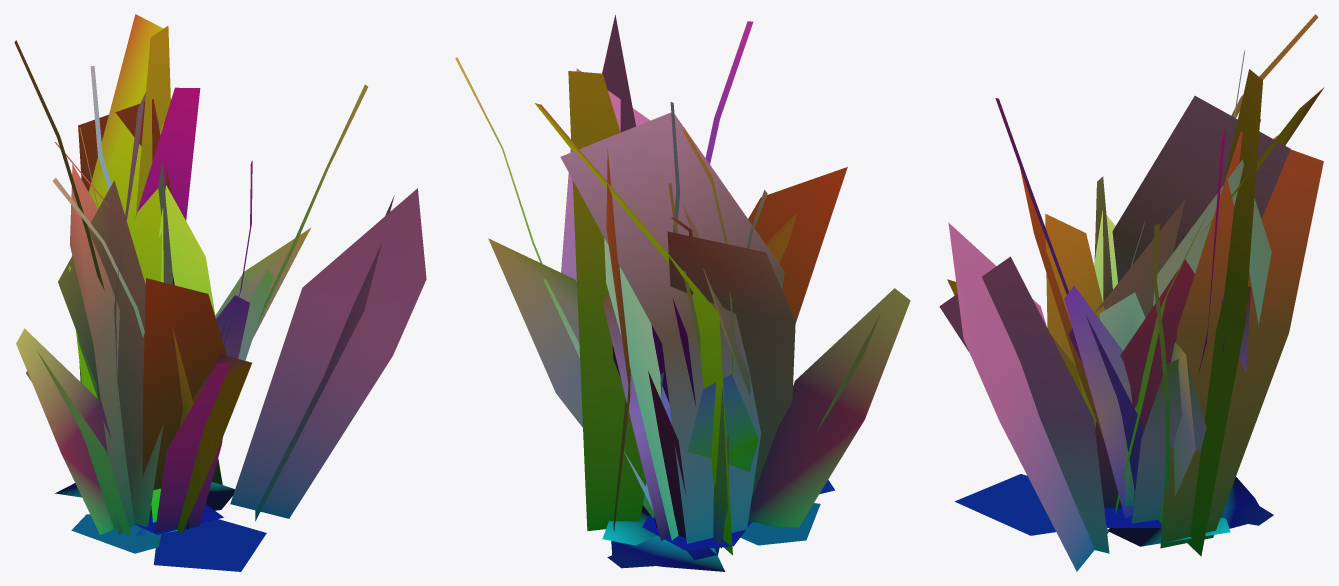
The model's file is uddmcgbia_VarC_LOD0.fbx.
3 views of the same model, side by side, from view 1: azimuth 30°, elevation 25°; view 2: azimuth 150°, elevation 25°; view 3: azimuth 270°, elevation 25° (orthographic). The views are drawn at different scales.
Parts seen in each view (by area): view 1: _82d2_VarC_LOD2; view 2: _82d2_VarC_LOD2; view 3: _82d2_VarC_LOD2.
Part boxes in pixels (left/top/right/bottom): _82d2_VarC_LOD2: left=14, top=14, right=426, bottom=571; _82d2_VarC_LOD2: left=455, top=15, right=910, bottom=571; _82d2_VarC_LOD2: left=939, top=14, right=1324, bottom=571.
Bounding box in the file's own units: 11.71 × 13.07 × 9.56.
